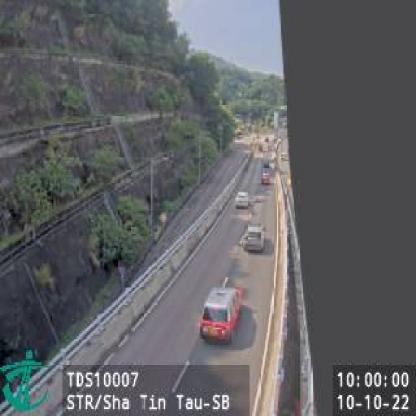Car: (200, 283, 246, 343), (242, 224, 265, 250), (237, 190, 251, 206), (260, 170, 271, 186)
